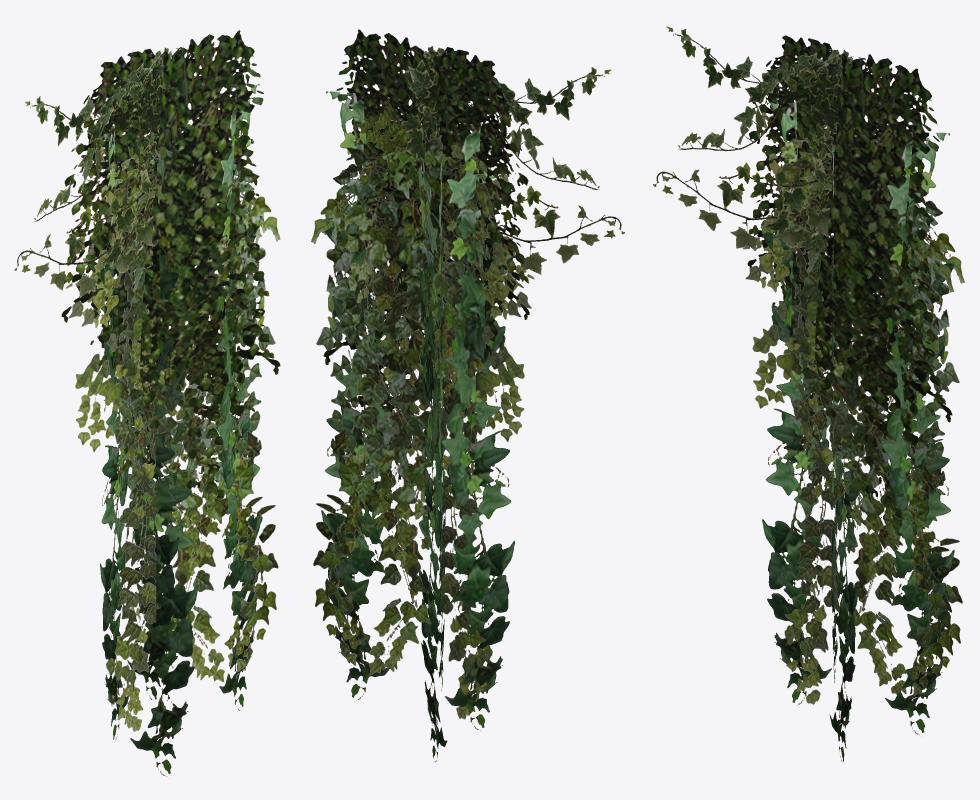
The model's file is Ivy_A.fbx.
3 renders of one model, left to right at view 1: azimuth 30°, elevation 25°; view 2: azimuth 150°, elevation 25°; view 3: azimuth 330°, elevation 25°, orthographic. The views are drawn at different scales.
Visible parts, largest first — view 1: Ivy_1; view 2: Ivy_1; view 3: Ivy_1.
Boxes of the visible parts, x1,y1,x2,y2 form: Ivy_1: [14, 30, 280, 776]; Ivy_1: [311, 29, 624, 761]; Ivy_1: [653, 26, 964, 762].
Bounding box in the file's own units: 501 × 1239 × 132.
